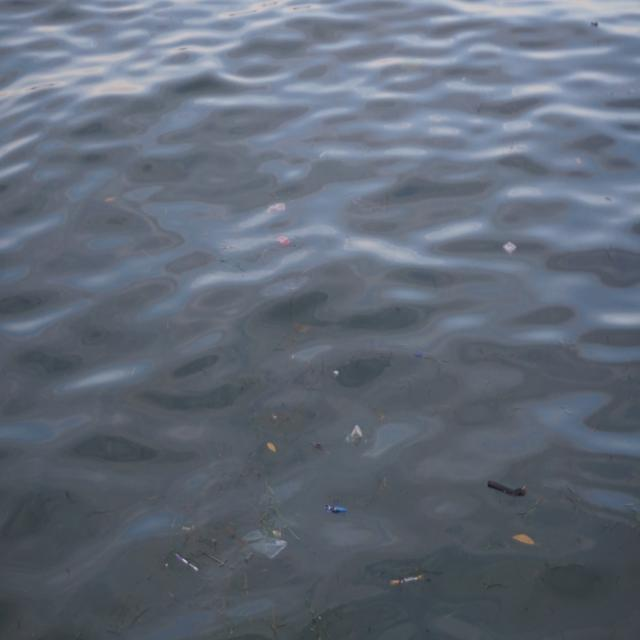Botol Plastik: (347, 424, 364, 448), (415, 350, 424, 361)
Bungkus Makanan: (389, 572, 425, 590), (326, 503, 348, 519)
Kantong Plastik: (243, 528, 290, 563)
